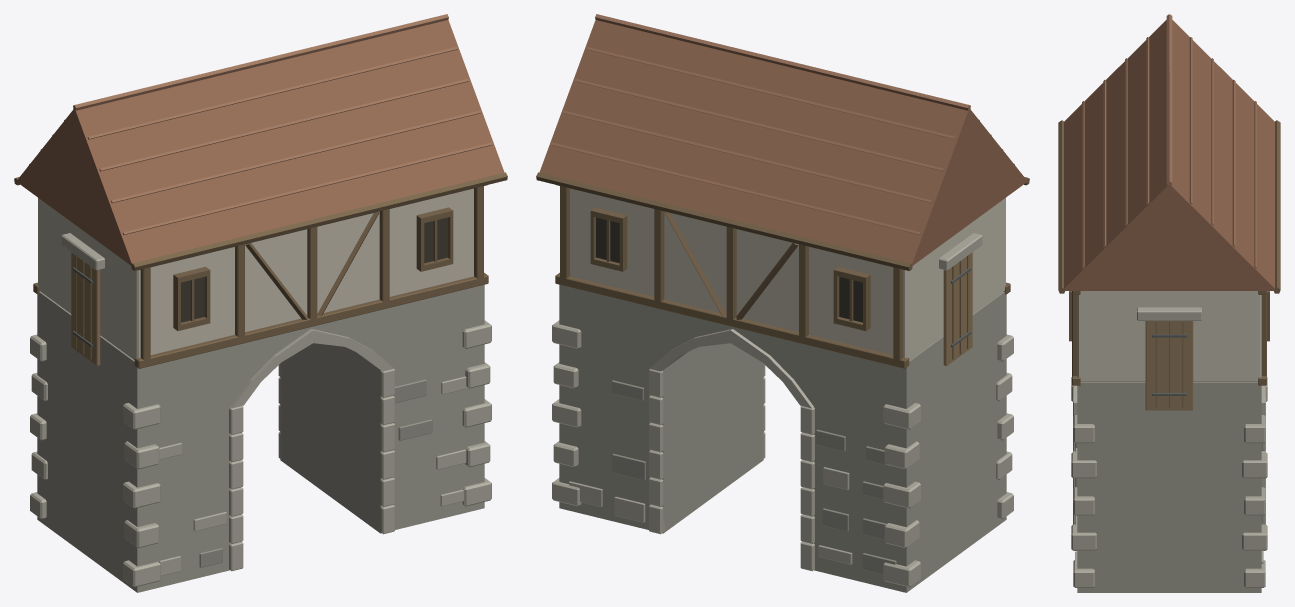
The model's file is fort_gatehouse.glb.
3 views of the same model, side by side, from view 1: azimuth 30°, elevation 25°; view 2: azimuth 150°, elevation 25°; view 3: azimuth 270°, elevation 25° (orthographic). The views are drawn at different scales.
Visible parts, largest first — view 1: fort_gatehouse_fort_masonry, fort_gatehouse_fort_roof, fort_gatehouse_fort_plaster, fort_gatehouse_fort_stone_light, fort_gatehouse_oak_dark, fort_gatehouse_fort_roof_light, fort_gatehouse_oak, fort_gatehouse_black, fort_gatehouse_fort_stone_dark; view 2: fort_gatehouse_fort_masonry, fort_gatehouse_fort_roof, fort_gatehouse_fort_plaster, fort_gatehouse_fort_stone_light, fort_gatehouse_oak_dark, fort_gatehouse_fort_roof_light, fort_gatehouse_fort_stone_dark, fort_gatehouse_oak, fort_gatehouse_black; view 3: fort_gatehouse_fort_roof, fort_gatehouse_fort_masonry, fort_gatehouse_fort_plaster, fort_gatehouse_fort_stone_light, fort_gatehouse_fort_roof_light, fort_gatehouse_oak, fort_gatehouse_oak_dark.
Part boxes in pixels (x1,y1,x2,y2): fort_gatehouse_fort_masonry: (37, 284, 484, 592); fort_gatehouse_fort_roof: (16, 20, 504, 266); fort_gatehouse_fort_plaster: (38, 188, 473, 359); fort_gatehouse_fort_stone_light: (30, 233, 491, 587); fort_gatehouse_oak_dark: (14, 172, 507, 368); fort_gatehouse_fort_roof_light: (29, 14, 492, 234); fort_gatehouse_oak: (71, 252, 100, 365); fort_gatehouse_black: (181, 217, 447, 322); fort_gatehouse_fort_stone_dark: (199, 379, 432, 567); fort_gatehouse_fort_masonry: (559, 284, 1006, 592); fort_gatehouse_fort_roof: (539, 20, 1027, 266); fort_gatehouse_fort_plaster: (570, 188, 1005, 359); fort_gatehouse_fort_stone_light: (552, 233, 1013, 587); fort_gatehouse_oak_dark: (536, 172, 1029, 368); fort_gatehouse_fort_roof_light: (551, 14, 1014, 234); fort_gatehouse_fort_stone_dark: (611, 380, 896, 574); fort_gatehouse_oak: (943, 252, 972, 365); fort_gatehouse_black: (596, 217, 862, 322); fort_gatehouse_fort_roof: (1062, 20, 1276, 290); fort_gatehouse_fort_masonry: (1077, 382, 1261, 592); fort_gatehouse_fort_plaster: (1077, 291, 1261, 381); fort_gatehouse_fort_stone_light: (1071, 307, 1267, 587); fort_gatehouse_fort_roof_light: (1082, 14, 1256, 268); fort_gatehouse_oak: (1145, 321, 1193, 410); fort_gatehouse_oak_dark: (1058, 120, 1280, 408).
Bounding box in the file's own units: 6.44 × 7.5 × 3.62.
